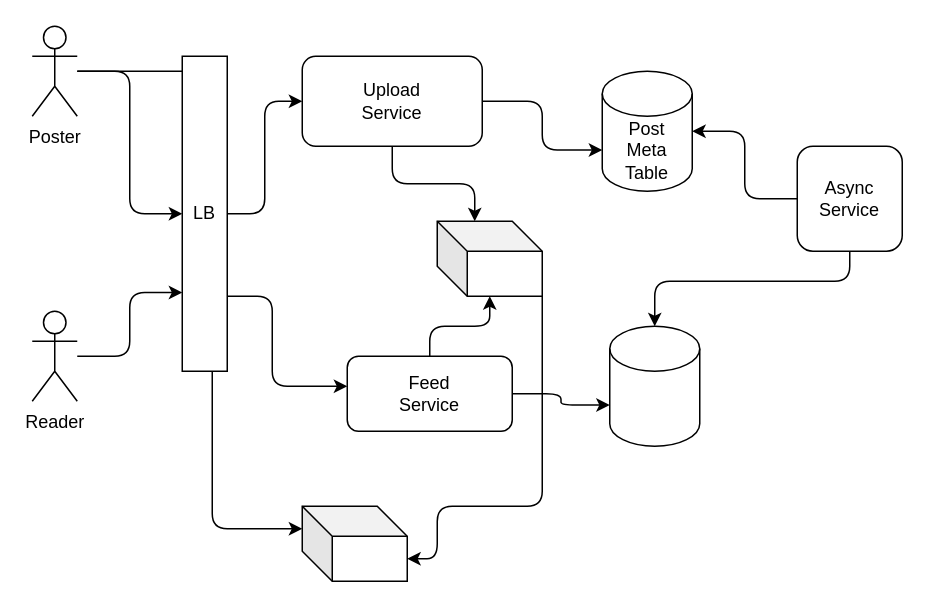
This 929x608 diagram has some shape labels left out. Here are the shapes that lost their labels. From the top down, the centre of each, then its label:
the point at 489,258: Object Stroage
the point at 654,385: Feed Table
the point at 354,543: CDN
